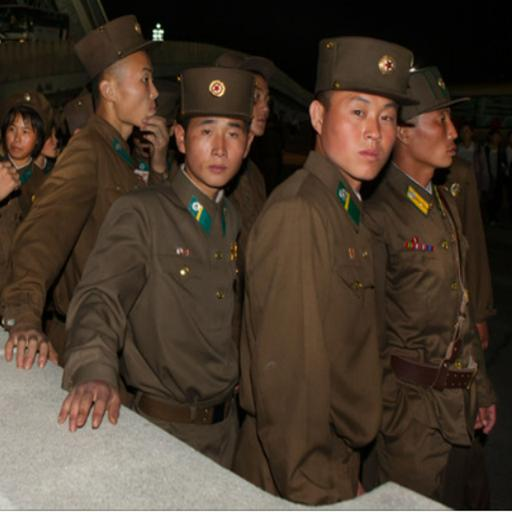north army: (16, 28, 500, 397)
